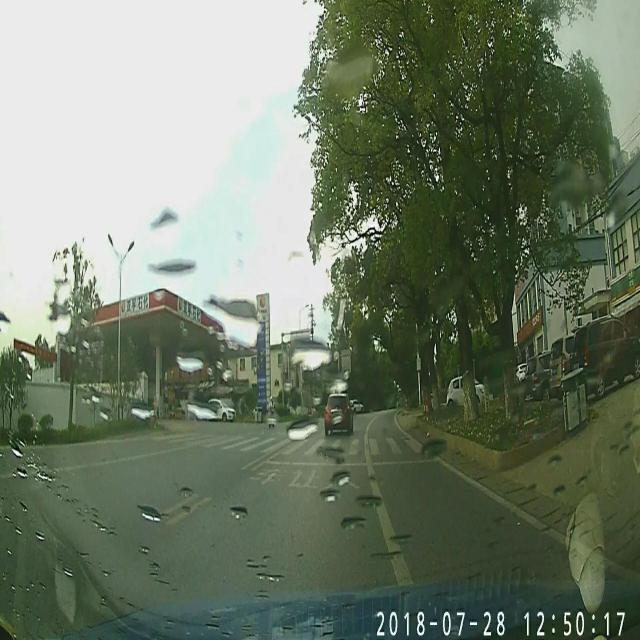car: (446, 374, 486, 408), (324, 392, 354, 436), (208, 397, 234, 421)
